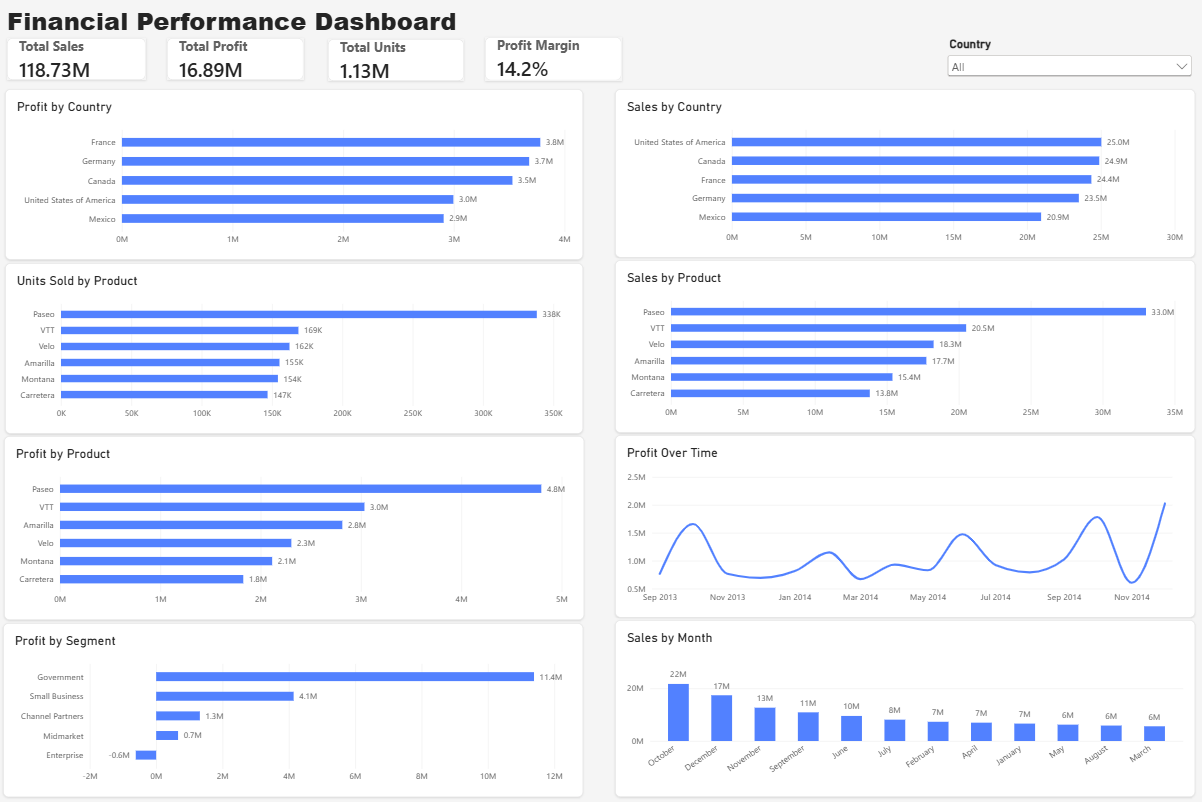

The dashboard page shown, as its layout file describes it:
{"tool":"powerbi","page":{"name":"Page 1","canvas":[1920,1164],"ordinal":0},"visuals":[{"type":"clusteredBarChart","title":"Sales by Country","fields":{"Category":["financials.Country"],"Y":["financials.Total Sales"]},"box":[981.4,142.9,828.6,241.4],"z":3},{"type":"slicer","fields":{"Values":["financials.Country"]},"box":[1451.4,68.6,359.1,61.2],"z":5},{"type":"actionButton","box":[0,0,100,40],"z":6},{"type":"cardVisual","fields":{"Data":["financials.Total Sales"]},"box":[112.9,70,198.6,60],"z":8},{"type":"cardVisual","fields":{"Data":["financials.Total Profit"]},"box":[341.4,70,195.7,60],"z":9},{"type":"cardVisual","fields":{"Data":["financials.Total Units"]},"box":[571.4,71.4,194.3,60],"z":10},{"type":"cardVisual","fields":{"Data":["financials.Profit Margin"]},"box":[795.7,68.6,195.7,62.9],"z":11},{"type":"clusteredBarChart","title":"Profit by Country","fields":{"Category":["financials.Country"],"Y":["financials.Total Profit"]},"box":[110,142.9,825.7,244.3],"z":12},{"type":"clusteredBarChart","title":"Units Sold by Product","fields":{"Category":["financials.Product"],"Y":["financials.Total Units"]},"box":[110,391.4,825.7,244.3],"z":13},{"type":"clusteredBarChart","title":"Sales by Product","fields":{"Category":["financials.Product"],"Y":["financials.Total Sales"]},"box":[981.4,387.1,828.6,247.1],"z":14},{"type":"clusteredBarChart","title":"Profit by Product","fields":{"Category":["financials.Product"],"Y":["financials.Total Profit"]},"box":[108.6,638.6,828.6,262.9],"z":15},{"type":"lineChart","title":"Profit Over Time","fields":{"Category":["financials.Date.Variation.Date Hierarchy.Year","financials.Date.Variation.Date Hierarchy.Quarter","financials.Date.Variation.Date Hierarchy.Month"],"Y":["financials.Total Profit"]},"box":[981.4,637.1,828.6,261.4],"z":16},{"type":"clusteredColumnChart","title":"Sales by Month","fields":{"Category":["financials.Date.Variation.Date Hierarchy.Month"],"Y":["financials.Total Sales"]},"box":[981.4,901.4,828.6,252.9],"z":17},{"type":"clusteredBarChart","title":"Profit by Segment","fields":{"Category":["financials.Segment"],"Y":["financials.Total Profit"]},"box":[107.1,905.7,828.6,248.6],"z":18},{"type":"textbox","title":"Financial Performance Dashboard","box":[112.9,20,1757.1,55.7],"z":19}]}

Visuals, with their boxes on the page's 1920x1164 design canvas (x1, y1, x2, y2). These are canvas units, not pixel positions in the 1202x802 screenshot, which may show the page scaled, cropped or inside an application window:
"Sales by Country" clusteredBarChart: crop(981, 143, 1810, 384)
slicer - financials.Country: crop(1451, 69, 1810, 130)
actionButton: crop(0, 0, 100, 40)
cardVisual - financials.Total Sales: crop(113, 70, 312, 130)
cardVisual - financials.Total Profit: crop(341, 70, 537, 130)
cardVisual - financials.Total Units: crop(571, 71, 766, 131)
cardVisual - financials.Profit Margin: crop(796, 69, 991, 132)
"Profit by Country" clusteredBarChart: crop(110, 143, 936, 387)
"Units Sold by Product" clusteredBarChart: crop(110, 391, 936, 636)
"Sales by Product" clusteredBarChart: crop(981, 387, 1810, 634)
"Profit by Product" clusteredBarChart: crop(109, 639, 937, 902)
"Profit Over Time" lineChart: crop(981, 637, 1810, 898)
"Sales by Month" clusteredColumnChart: crop(981, 901, 1810, 1154)
"Profit by Segment" clusteredBarChart: crop(107, 906, 936, 1154)
"Financial Performance Dashboard" textbox: crop(113, 20, 1870, 76)
